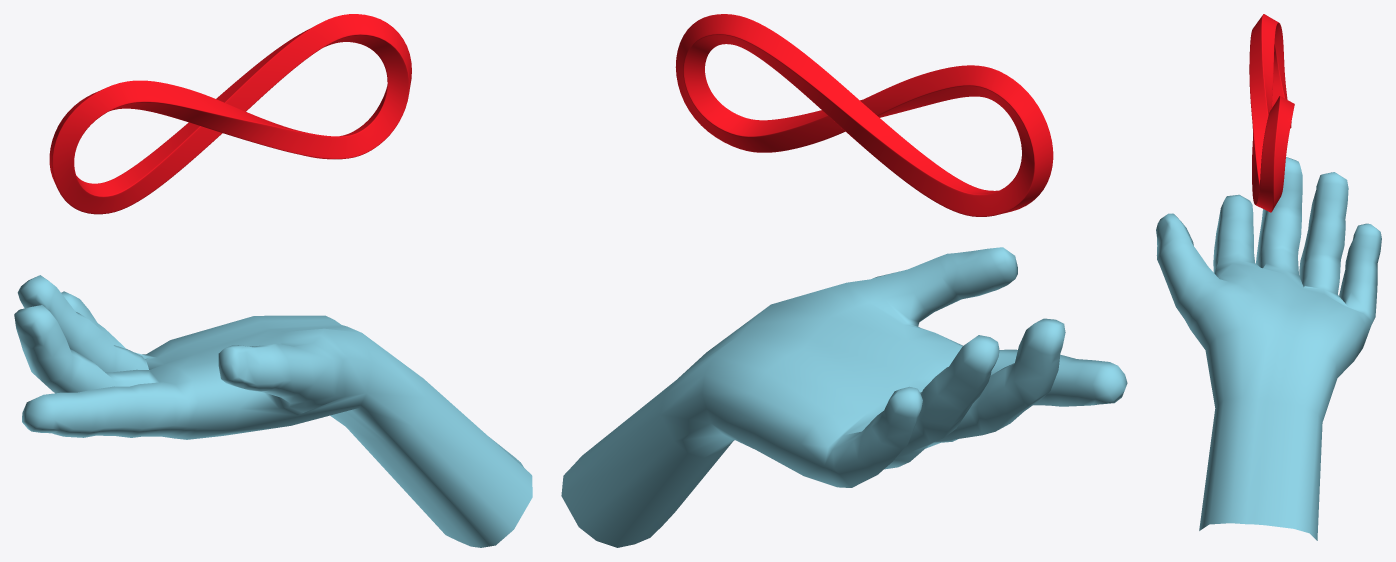
File: Hand_glb_2.glb
3 views of the same model, side by side, from view 1: azimuth 30°, elevation 25°; view 2: azimuth 150°, elevation 25°; view 3: azimuth 270°, elevation 25° (orthographic). The views are drawn at different scales.
Visible parts, largest first — view 1: CubeFBXASC046005, Loop; view 2: CubeFBXASC046005, Loop; view 3: CubeFBXASC046005, Loop.
Part boxes in pixels (x1,y1,x2,y2): CubeFBXASC046005: (14, 275, 532, 547); Loop: (49, 14, 411, 214); CubeFBXASC046005: (561, 247, 1127, 547); Loop: (675, 14, 1053, 216); CubeFBXASC046005: (1156, 157, 1381, 540); Loop: (1249, 14, 1294, 212).
Size of the model in its own units: 0.2324 by 0.2344 by 0.1175.
